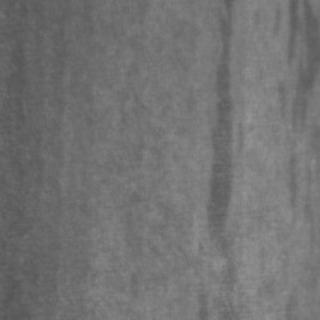inclusion: (202, 0, 242, 284), (276, 0, 316, 144), (280, 128, 306, 235)
